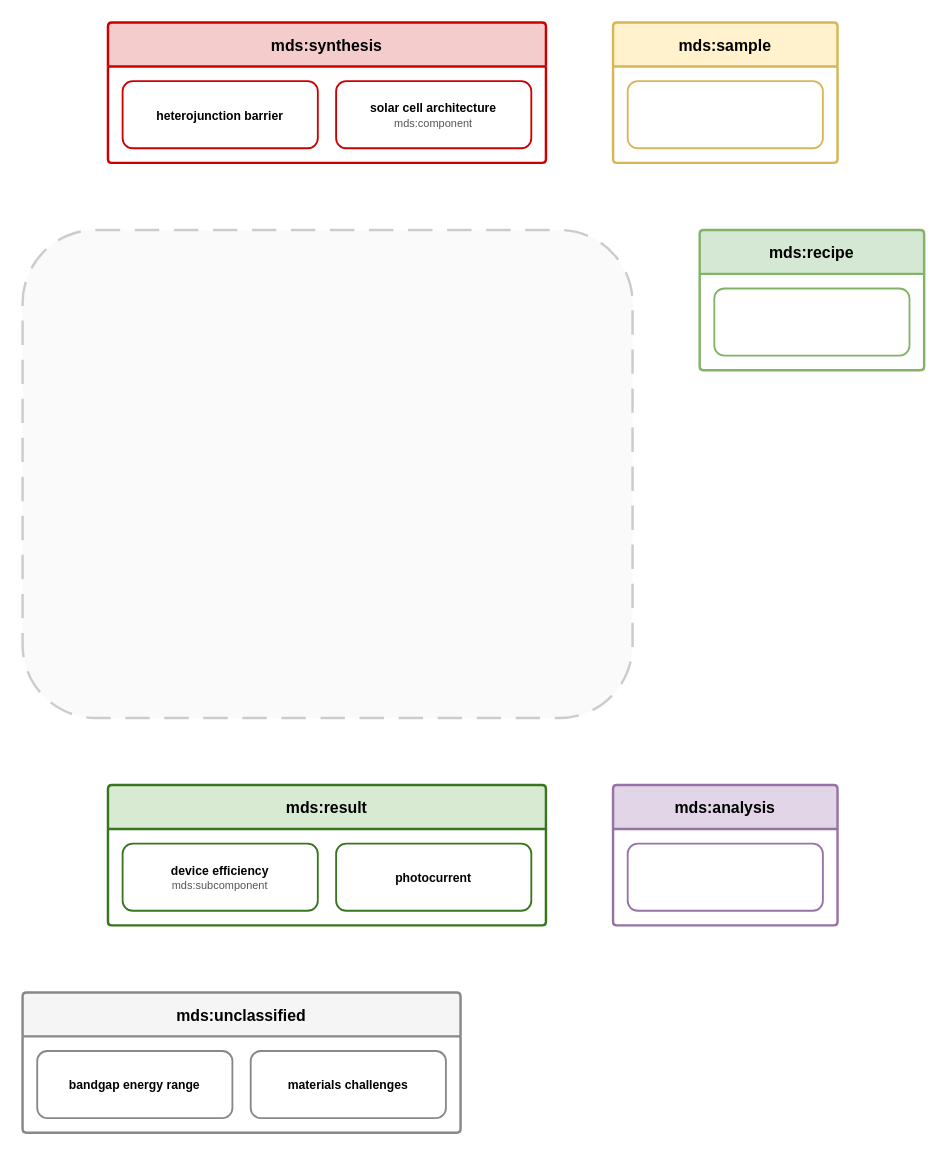
Some shapes in this 946 by 1154 pixel diagram are drawn without their labels. Each missing label, with the centre of its shape:
absorber material mds:materials: [724,114]
junction spacing: [811,321]
solar spectrum utilization: [724,876]
← Drag concepts here →: [327,473]
